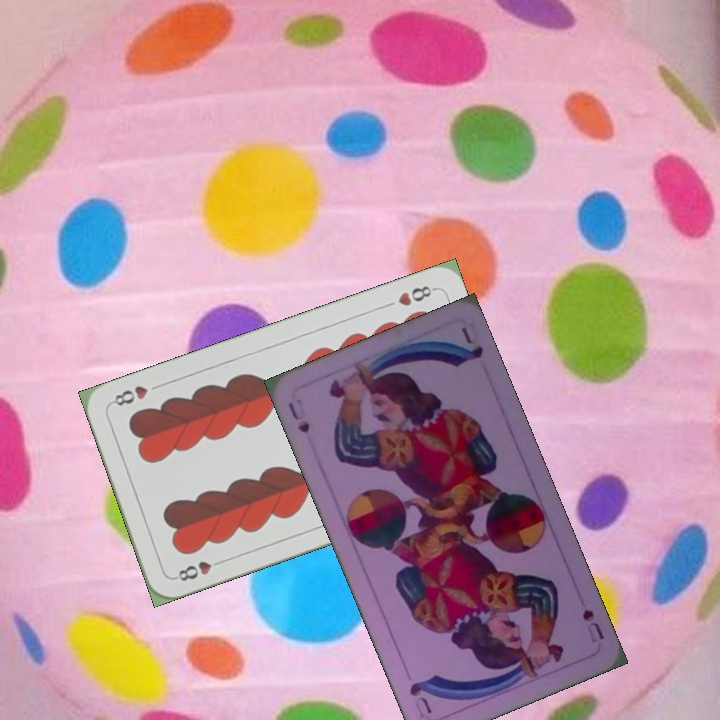H8: (170, 555, 227, 584), (393, 281, 438, 309)
SU: (284, 398, 313, 436), (578, 605, 607, 642)
